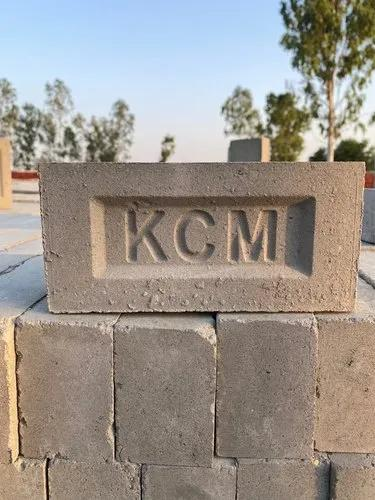brick: (38, 158, 368, 312), (214, 316, 319, 458), (118, 326, 217, 465), (16, 323, 111, 464), (320, 315, 375, 456), (239, 460, 326, 500), (49, 464, 138, 499), (143, 468, 236, 499), (334, 463, 372, 498)
